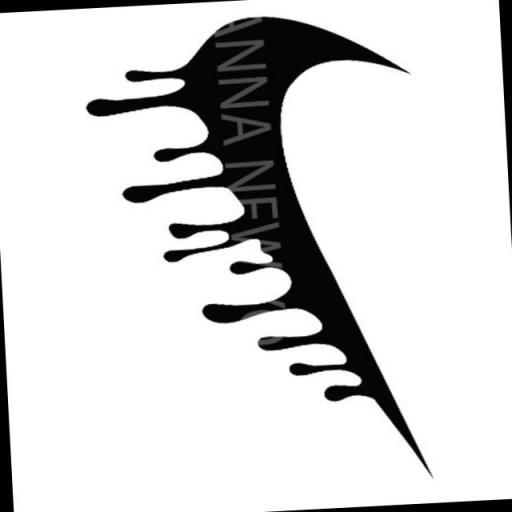Nike: (196, 12, 422, 470)
